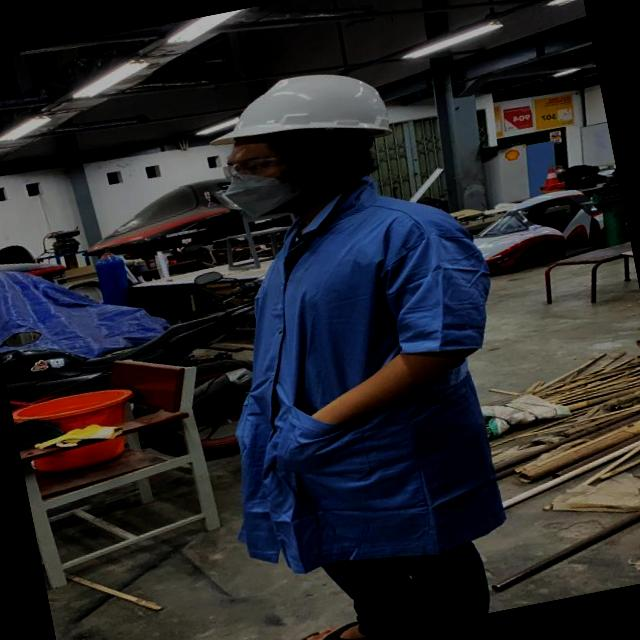no_vest: (172, 171, 538, 572)
